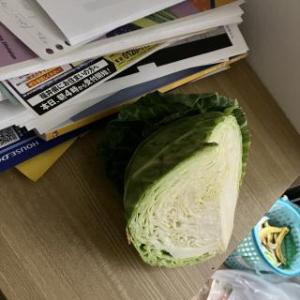cabbage: (105, 88, 252, 270)
